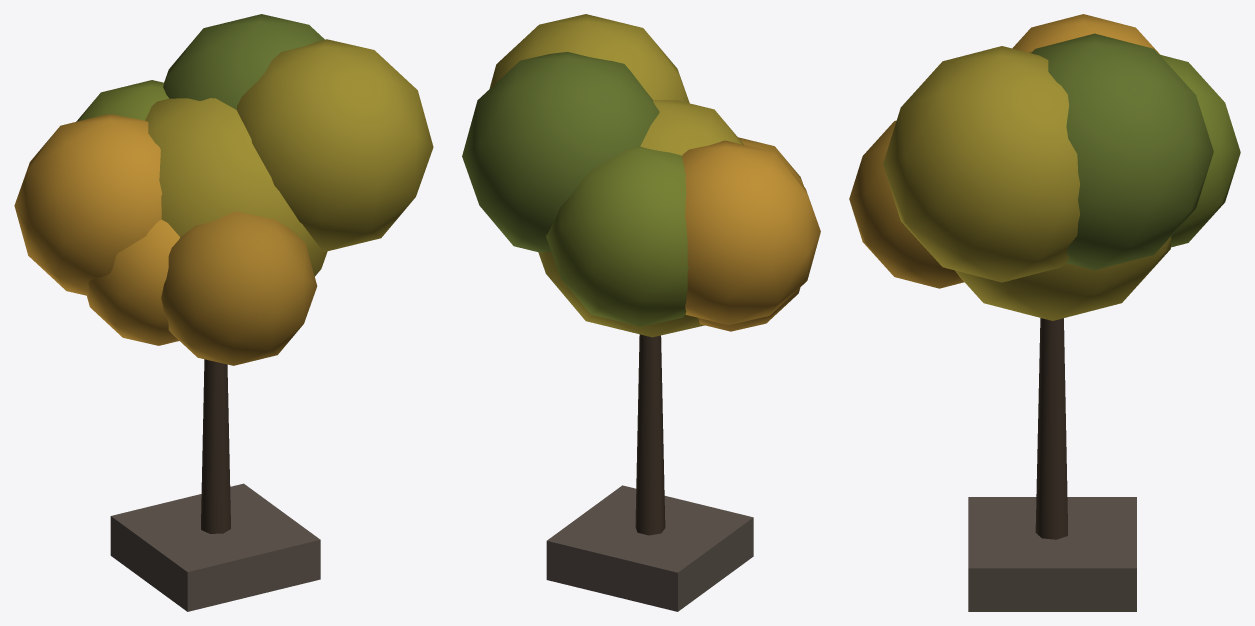
The model's file is prop_tree.glb.
The picture shows the model from 3 angles, left to right: view 1: azimuth 30°, elevation 25°; view 2: azimuth 150°, elevation 25°; view 3: azimuth 270°, elevation 25°; orthographic projection. The views are drawn at different scales.
Bounding box in the file's own units: 3.73 × 5.19 × 3.25.
